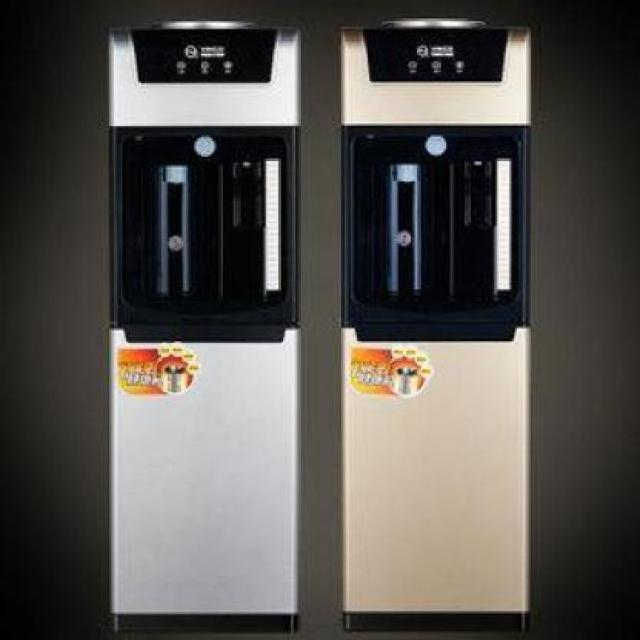cooler: (335, 14, 537, 639), (108, 14, 304, 631)
